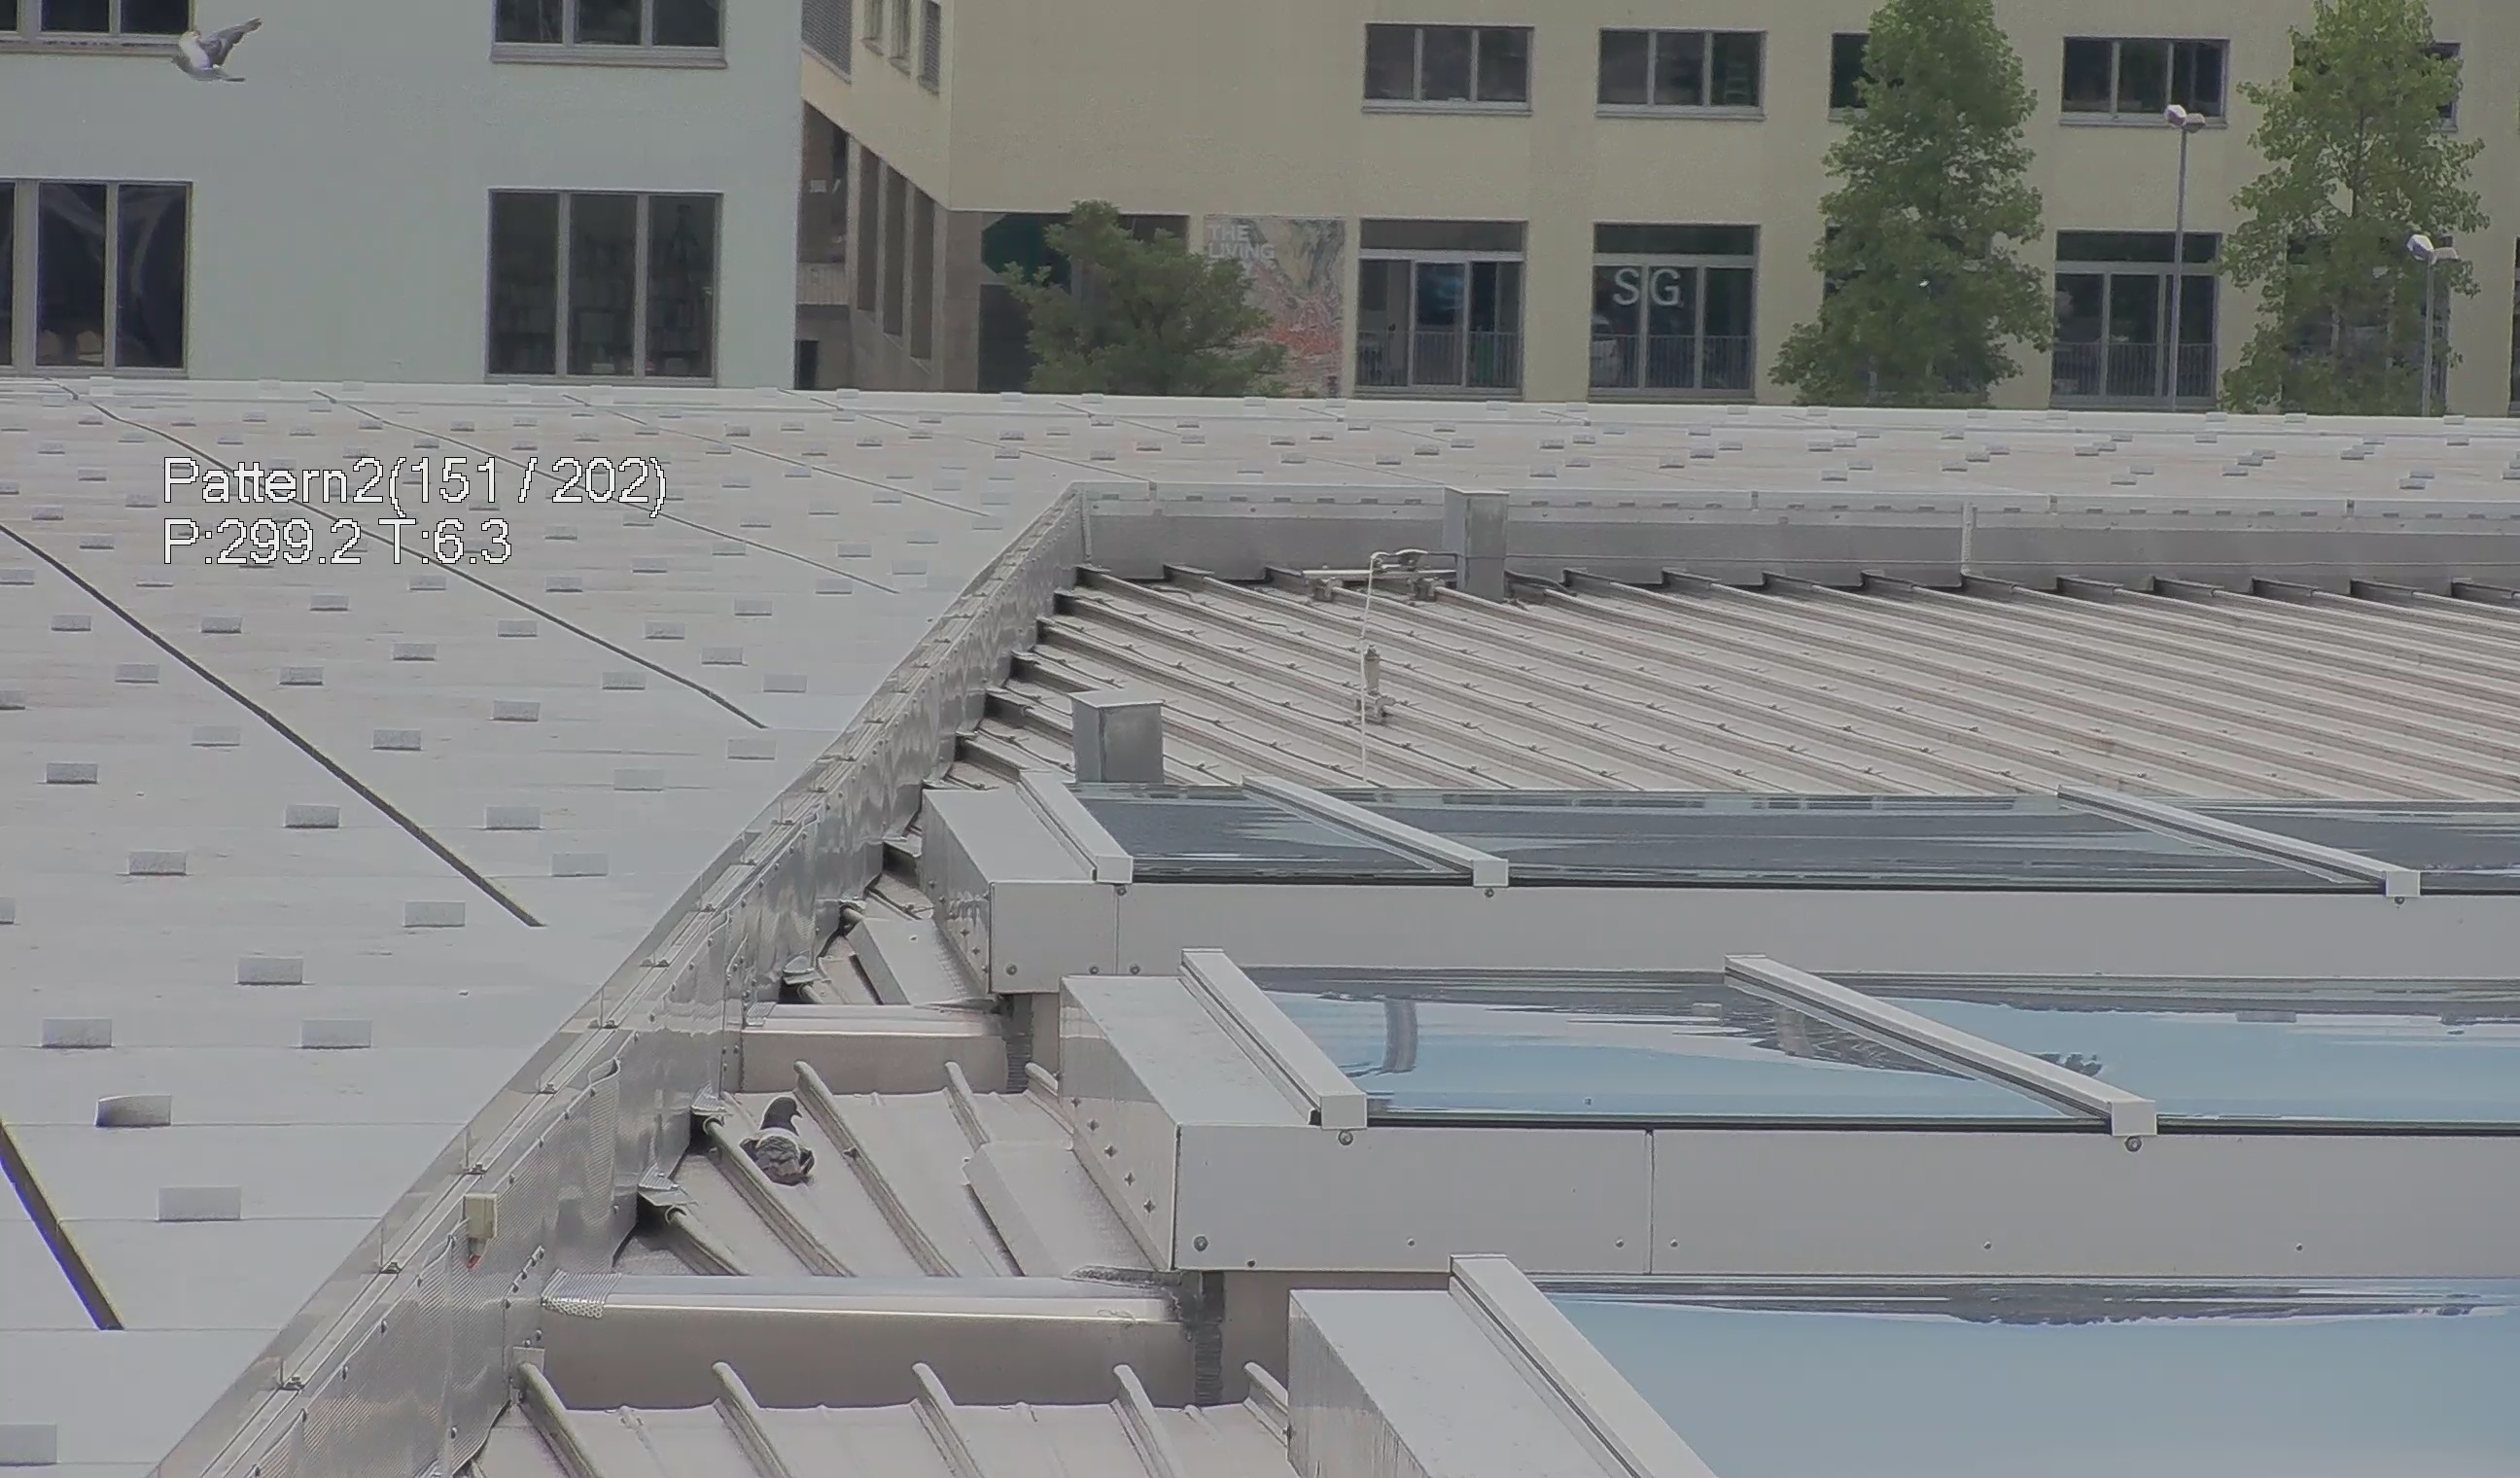Pigeon: (730, 1091, 821, 1195), (167, 4, 260, 91)
